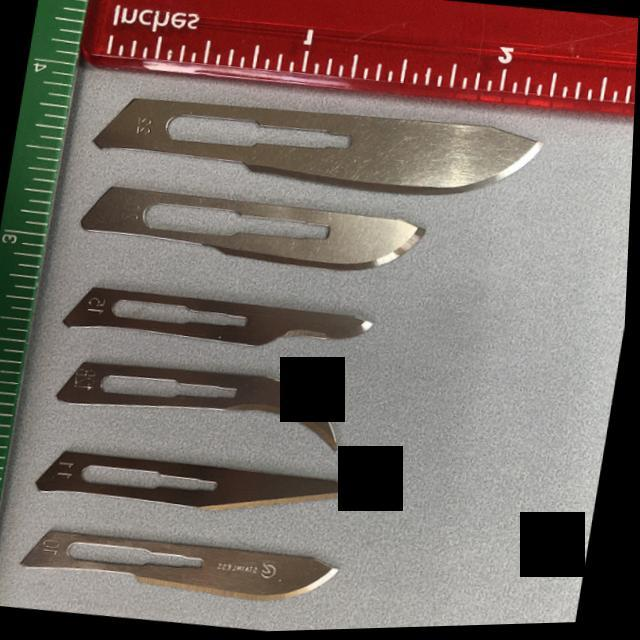Surgical blade: (86, 74, 557, 220), (73, 170, 447, 293), (21, 508, 354, 626), (56, 270, 390, 382), (52, 348, 368, 466), (32, 432, 370, 540)
